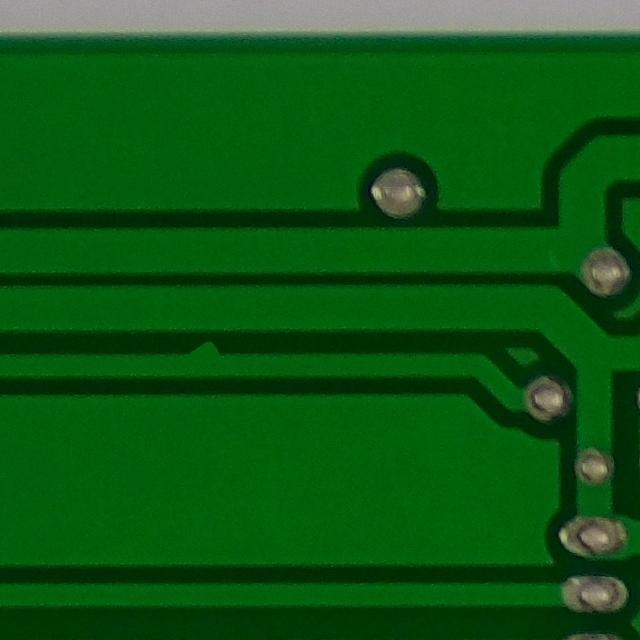spur: (165, 326, 241, 385)
